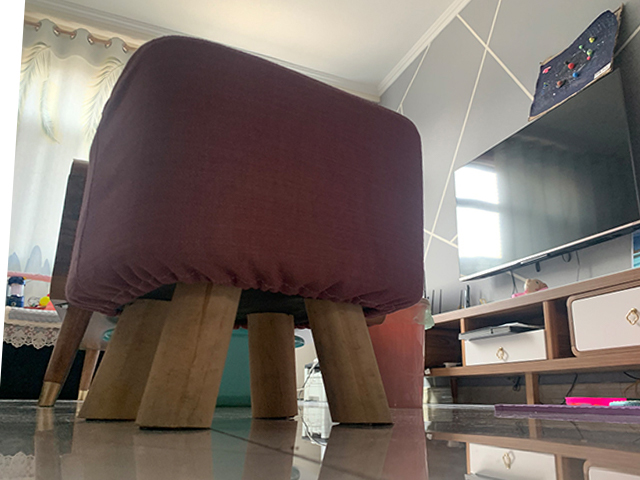cabinet: (426, 265, 640, 408)
stool: (65, 33, 428, 431)
trashcan: (371, 297, 430, 410)
